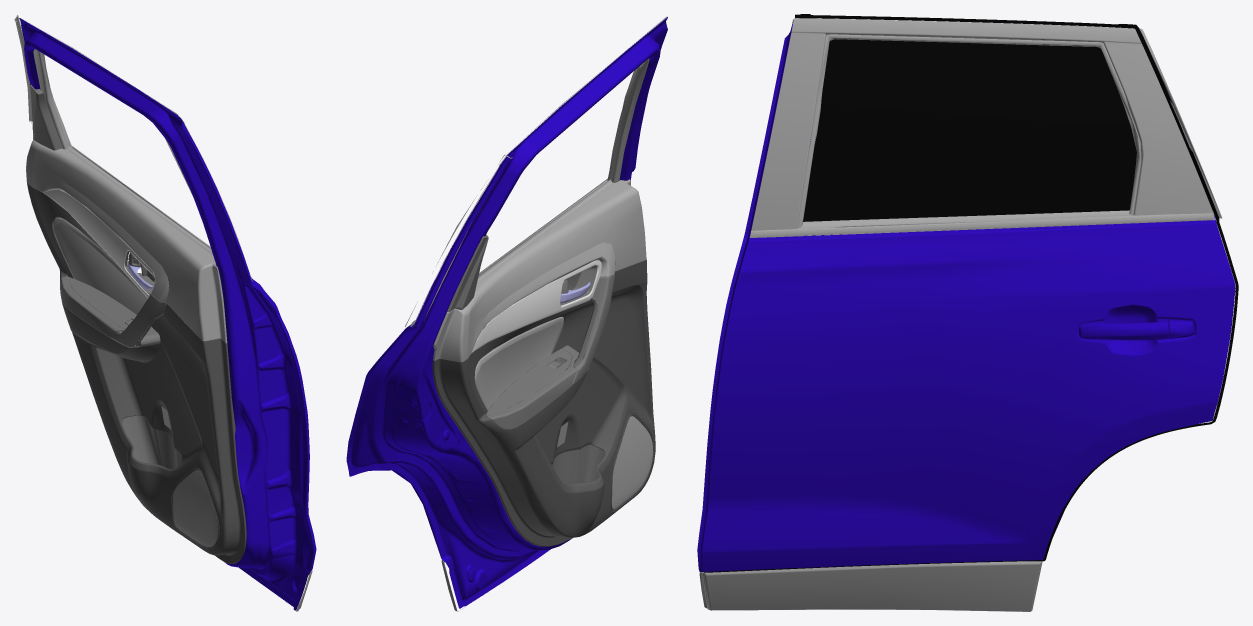
File: TOYOTA_URBAN_CRUISER_PRE_EX_RL_DOORS_MESH.glb
The picture shows the model from 3 angles, left to right: view 1: azimuth 30°, elevation 25°; view 2: azimuth 150°, elevation 25°; view 3: azimuth 270°, elevation 25°; orthographic projection. The views are drawn at different scales.
Parts seen in each view (by area): view 1: TOYOTA_URBAN_CRUISER_PRE_EX_RL_DOORS_MESH; view 2: TOYOTA_URBAN_CRUISER_PRE_EX_RL_DOORS_MESH; view 3: TOYOTA_URBAN_CRUISER_PRE_EX_RL_DOORS_MESH.
Part boxes in pixels (x1,y1,x2,y2): TOYOTA_URBAN_CRUISER_PRE_EX_RL_DOORS_MESH: (14,15,316,611); TOYOTA_URBAN_CRUISER_PRE_EX_RL_DOORS_MESH: (346,16,667,611); TOYOTA_URBAN_CRUISER_PRE_EX_RL_DOORS_MESH: (697,14,1238,611).
Size of the model in its own units: 0.2925 by 1.17 by 1.04.
